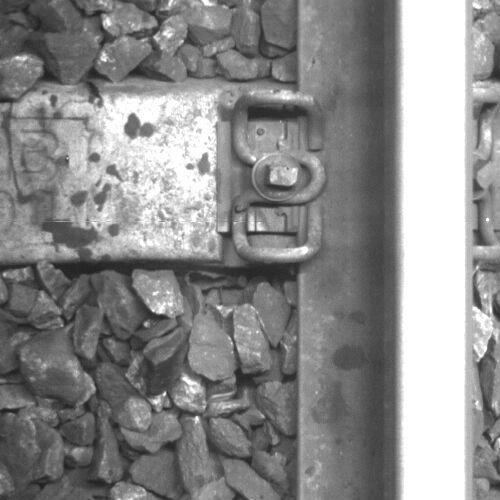rail: (396, 1, 474, 500)
tie_concr: (1, 93, 303, 262)
vossloh: (217, 91, 326, 263)
